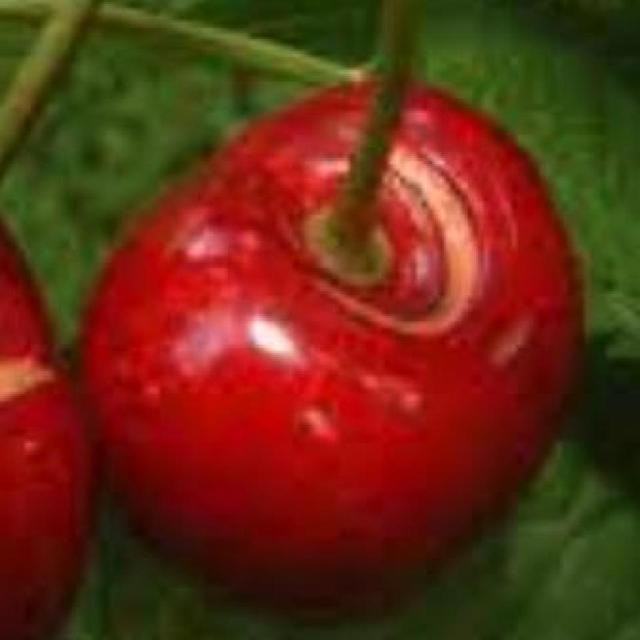Cracking Fruit: (18, 62, 258, 245)
